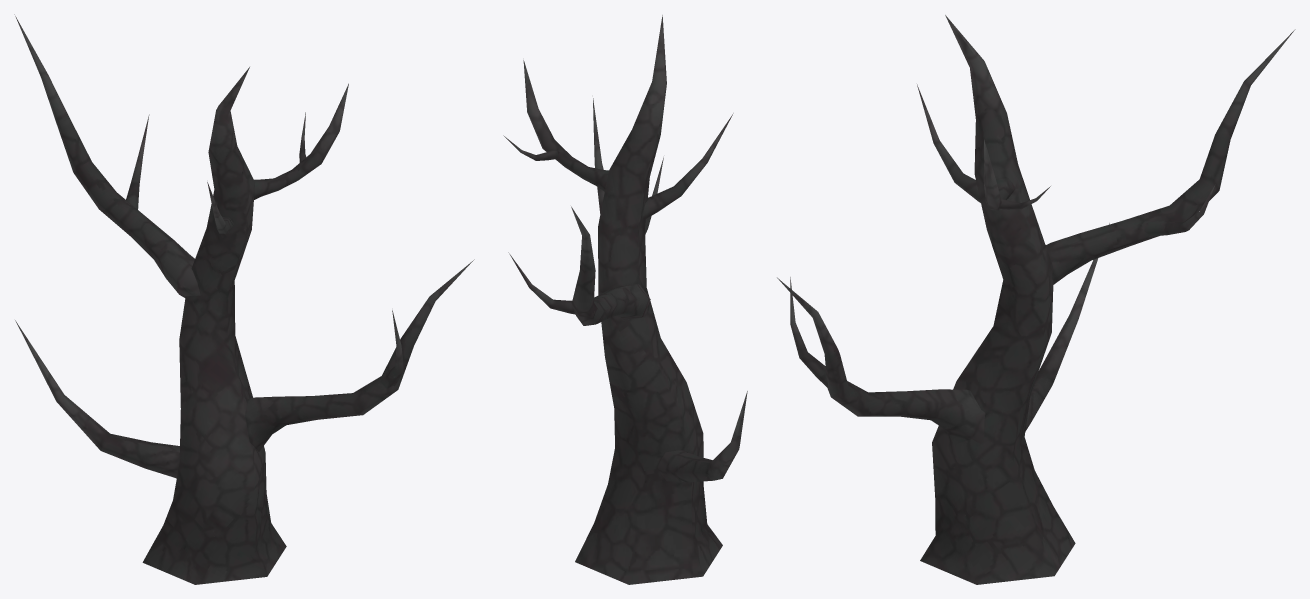
File: dead_tree.glb
3 renders of one model, left to right at view 1: azimuth 30°, elevation 25°; view 2: azimuth 150°, elevation 25°; view 3: azimuth 270°, elevation 25°, orthographic. The views are drawn at different scales.
Visible parts, largest first — view 1: Arena001; view 2: Arena001; view 3: Arena001.
Boxes of the visible parts, <box> form: Arena001: <box>14,14,474,584</box>; Arena001: <box>503,15,747,584</box>; Arena001: <box>777,15,1295,584</box>.
Size of the model in its own units: 25.96 by 40.92 by 35.44.
Materials: 1 (1 with a texture image).
